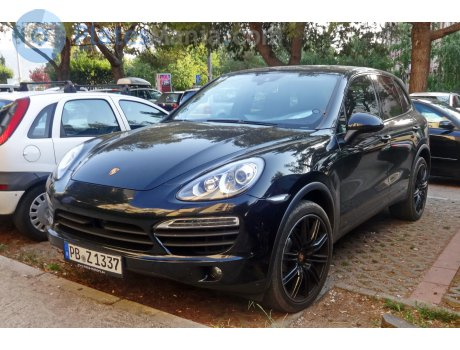License Plates: (67, 244, 116, 263)
